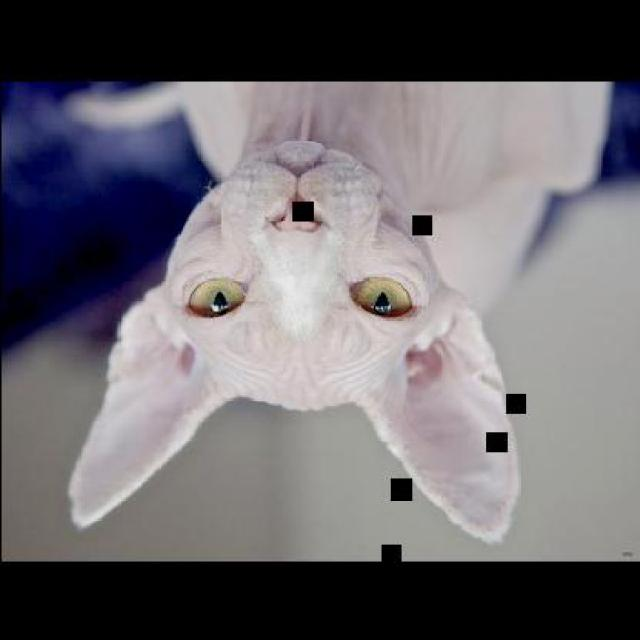unauthorized: (66, 135, 520, 543)
